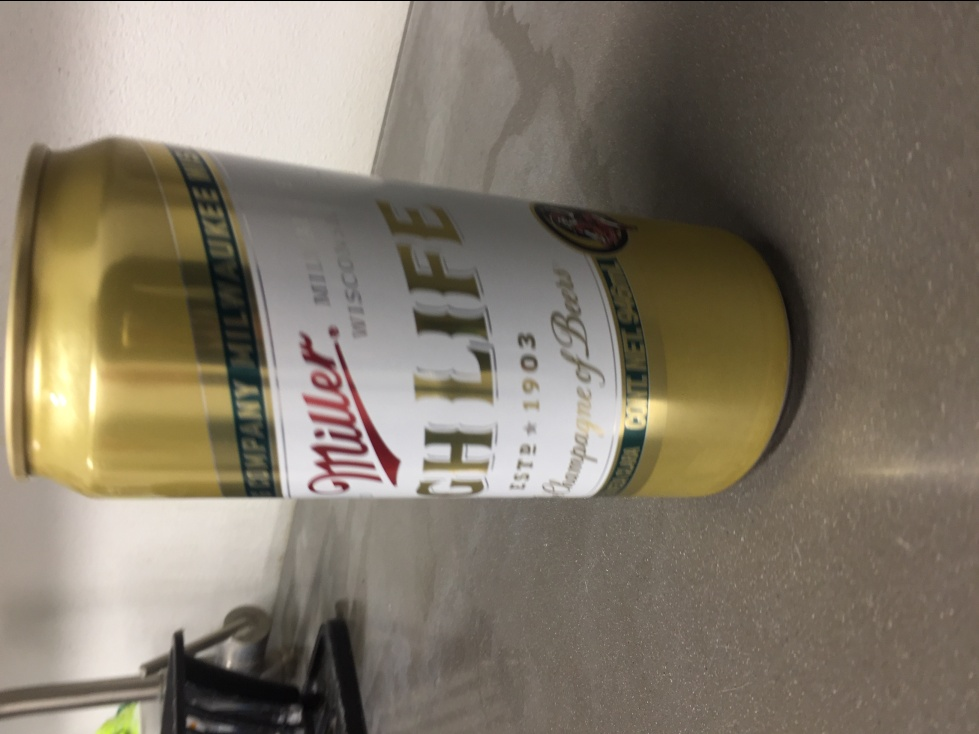miller: (6, 133, 801, 505)
